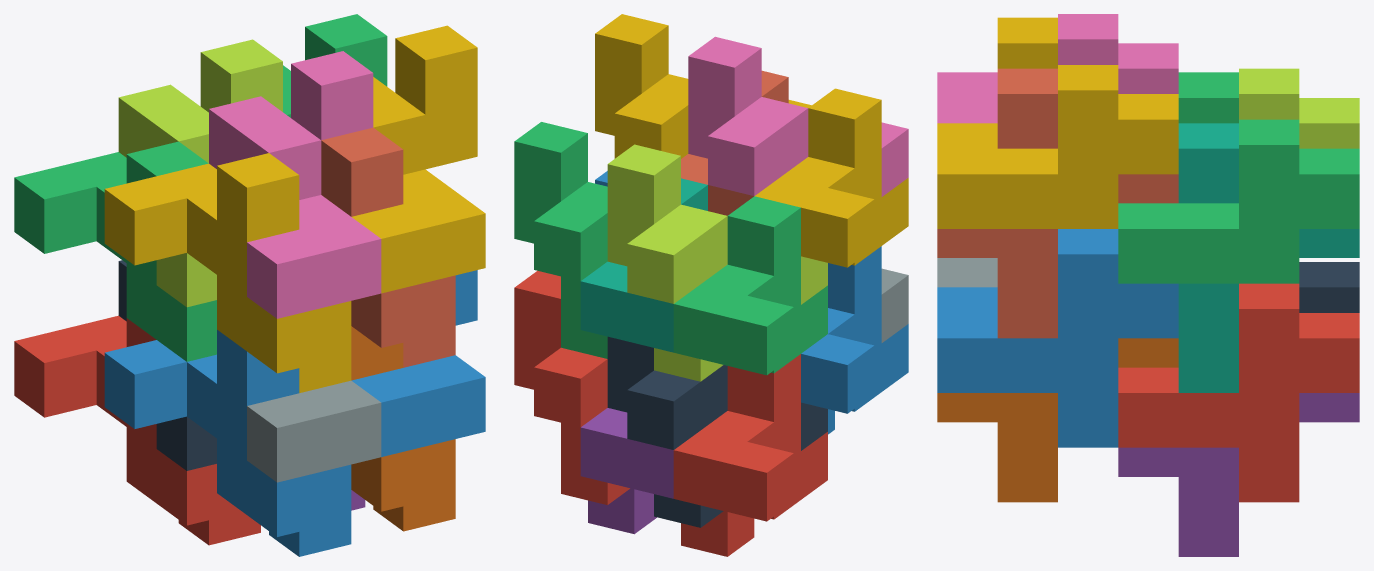
The model's file is tiling.obj.
The picture shows the model from 3 angles, left to right: view 1: azimuth 30°, elevation 25°; view 2: azimuth 150°, elevation 25°; view 3: azimuth 270°, elevation 25°; orthographic projection. The views are drawn at different scales.
Visible parts, largest first — view 1: copy_1_domain_4, copy_2_domain_4, copy_1_domain_2, copy_2_domain_8, copy_1_domain_1, copy_1_domain_3, copy_1_domain_8, copy_2_domain_3, copy_2_domain_2, copy_2_domain_6, copy_1_domain_6, copy_2_domain_7 (+1 smaller); view 2: copy_1_domain_1, copy_1_domain_3, copy_2_domain_3, copy_1_domain_4, copy_2_domain_4, copy_2_domain_7, copy_2_domain_5, copy_1_domain_2, copy_2_domain_1, copy_2_domain_8, copy_1_domain_5, copy_1_domain_7 (+2 smaller); view 3: copy_2_domain_6, copy_2_domain_5, copy_2_domain_8, copy_2_domain_7, copy_1_domain_8, copy_1_domain_7, copy_1_domain_5, copy_1_domain_6, copy_2_domain_4, copy_2_domain_3, copy_1_domain_3, copy_1_domain_4 (+2 smaller).
Part boxes in pixels (x1=…): copy_1_domain_4: x1=104, y1=153, x2=351, y2=392; copy_2_domain_4: x1=209, y1=51, x2=381, y2=318; copy_1_domain_2: x1=104, y1=330, x2=351, y2=556; copy_2_domain_8: x1=352, y1=25, x2=485, y2=293; copy_1_domain_1: x1=14, y1=315, x2=260, y2=545; copy_1_domain_3: x1=14, y1=141, x2=216, y2=361; copy_1_domain_8: x1=321, y1=127, x2=455, y2=367; copy_2_domain_3: x1=118, y1=39, x2=282, y2=307; copy_2_domain_2: x1=247, y1=380, x2=381, y2=482; copy_2_domain_6: x1=351, y1=270, x2=485, y2=456; copy_1_domain_6: x1=351, y1=326, x2=455, y2=531; copy_2_domain_7: x1=283, y1=14, x2=387, y2=117; copy_1_domain_1: x1=673, y1=354, x2=827, y2=556; copy_1_domain_3: x1=673, y1=196, x2=827, y2=375; copy_2_domain_3: x1=607, y1=144, x2=827, y2=381; copy_1_domain_4: x1=755, y1=88, x2=908, y2=267; copy_2_domain_4: x1=688, y1=36, x2=908, y2=196; copy_2_domain_7: x1=514, y1=122, x2=607, y2=358; copy_2_domain_5: x1=514, y1=270, x2=629, y2=504; copy_1_domain_2: x1=801, y1=246, x2=908, y2=434; copy_2_domain_1: x1=607, y1=336, x2=827, y2=527; copy_2_domain_8: x1=595, y1=14, x2=811, y2=158; copy_1_domain_5: x1=580, y1=408, x2=673, y2=534; copy_1_domain_7: x1=580, y1=178, x2=707, y2=352; copy_2_domain_6: x1=937, y1=229, x2=1178, y2=447; copy_2_domain_5: x1=1118, y1=283, x2=1359, y2=502; copy_2_domain_8: x1=937, y1=65, x2=1178, y2=228; copy_2_domain_7: x1=1118, y1=119, x2=1359, y2=283; copy_1_domain_8: x1=937, y1=68, x2=1178, y2=338; copy_1_domain_7: x1=1178, y1=123, x2=1359, y2=392; copy_1_domain_5: x1=1118, y1=393, x2=1359, y2=556; copy_1_domain_6: x1=937, y1=338, x2=1178, y2=502; copy_2_domain_4: x1=937, y1=14, x2=1178, y2=123; copy_2_domain_3: x1=1239, y1=68, x2=1359, y2=148; copy_1_domain_3: x1=1178, y1=72, x2=1238, y2=123; copy_1_domain_4: x1=997, y1=17, x2=1057, y2=68.
Size of the model in its own units: 6 by 9 by 7.
